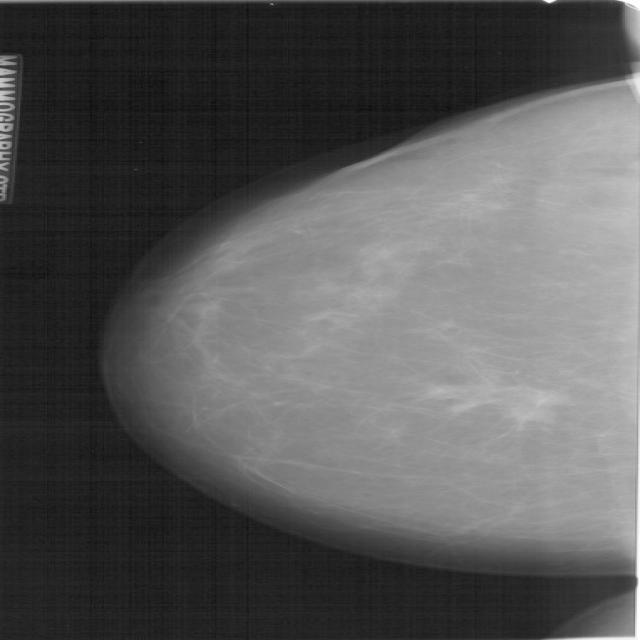tumour: (422, 383, 565, 423)
